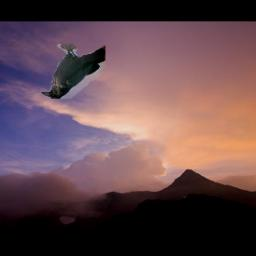Crow: (41, 45, 106, 100)
